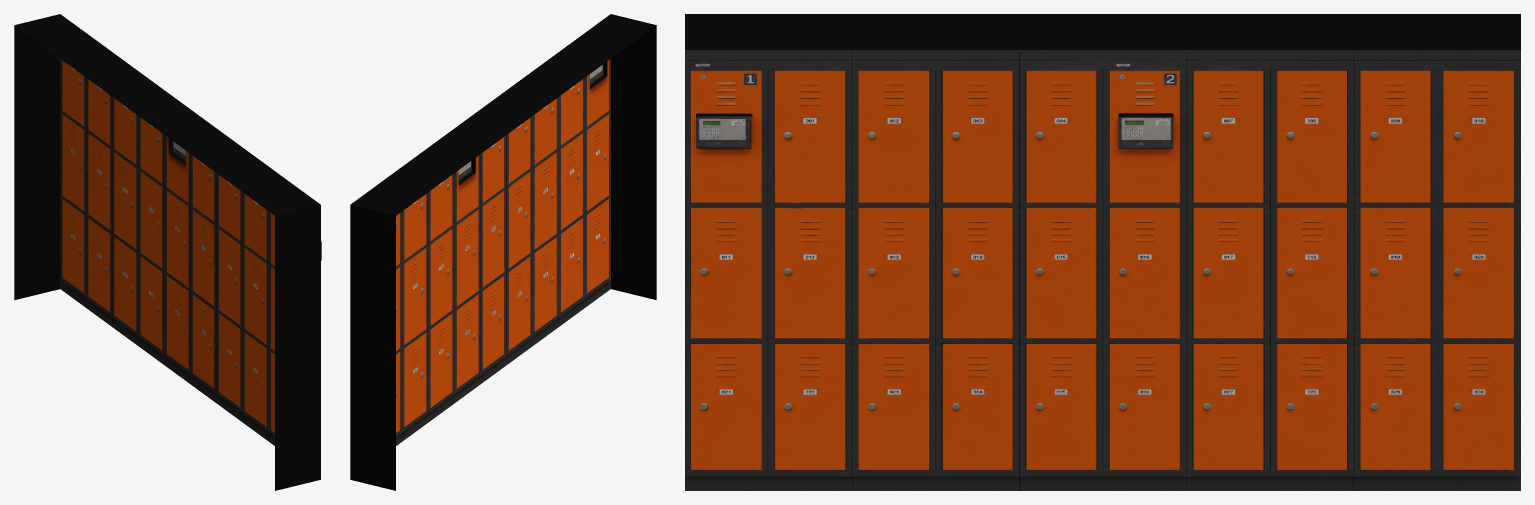
Rendered from orange_lockers.fbx.
3 renders of one model, left to right at view 1: azimuth 30°, elevation 25°; view 2: azimuth 150°, elevation 25°; view 3: azimuth 270°, elevation 25°, orthographic. The views are drawn at different scales.
Parts seen in each view (by area): view 1: lockers; view 2: lockers; view 3: lockers.
Boxes of the visible parts, left/top/right/bottom form: lockers: left=14, top=14, right=321, bottom=490; lockers: left=350, top=14, right=656, bottom=490; lockers: left=685, top=14, right=1520, bottom=490.
Size of the model in its own units: 37.02 by 195 by 335.
2 materials, 1 textured.
